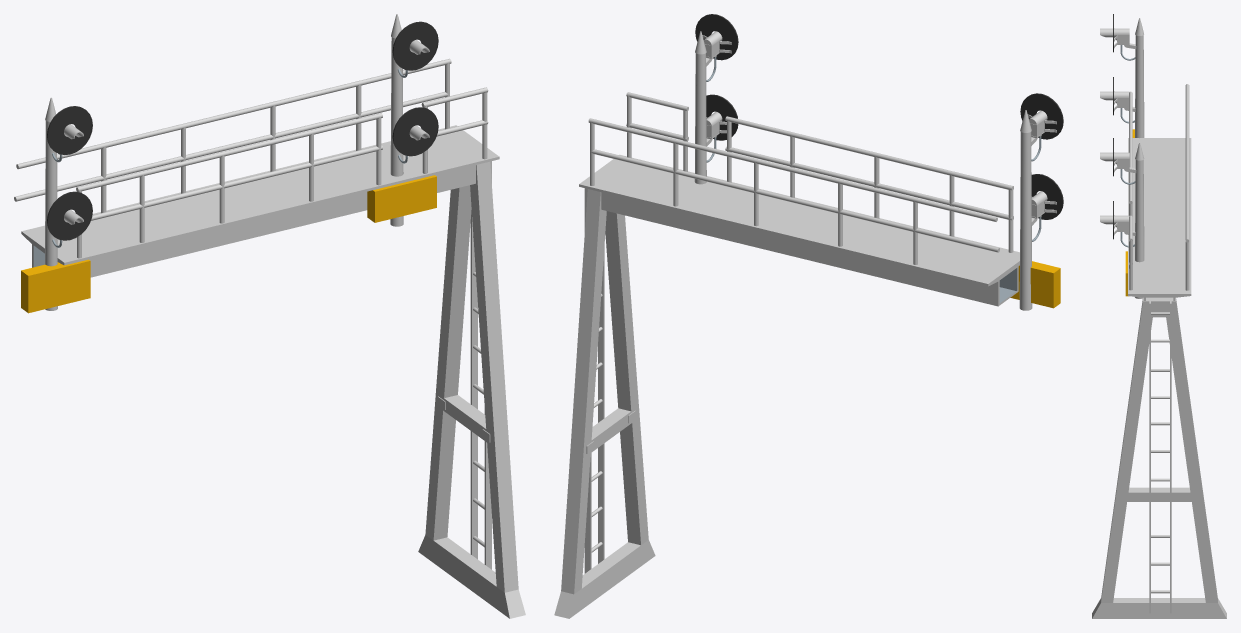
The picture shows the model from 3 angles, left to right: view 1: azimuth 30°, elevation 25°; view 2: azimuth 150°, elevation 25°; view 3: azimuth 270°, elevation 25°; orthographic projection. The views are drawn at different scales.
Parts seen in each view (by area): view 1: group_14, group_26, Box (×2), group_40, group_39, group_65, group_58, group_59, mesh_42_instance_1, mesh_42_instance_0, mesh_1_instance_1, mesh_1_instance_0 (+3 smaller); view 2: group_14, group_26, group_39, group_40, _instance_0, group_58, group_59, group_65, _instance_1, Box, mesh_1_instance_1, mesh_1_instance_0 (+2 smaller); view 3: group_26, group_14, _instance_1, _instance_0, group_39, group_70, group_65, group_58, mesh_5_instance_0, mesh_5_instance_1, mesh_46_instance_0, mesh_46_instance_1 (+1 smaller).
Part boxes in pixels (x1=…): group_14: x1=21, y1=125, x2=499, y2=277; group_26: x1=418, y1=161, x2=525, y2=618; Box (×2): x1=21, y1=175, x2=436, y2=313; group_40: x1=14, y1=92, x2=449, y2=201; group_39: x1=16, y1=58, x2=451, y2=169; group_65: x1=470, y1=389, x2=491, y2=569; group_58: x1=76, y1=113, x2=382, y2=191; group_59: x1=91, y1=145, x2=382, y2=220; mesh_42_instance_1: x1=394, y1=108, x2=437, y2=155; mesh_42_instance_0: x1=48, y1=193, x2=91, y2=239; mesh_1_instance_1: x1=394, y1=23, x2=437, y2=69; mesh_1_instance_0: x1=48, y1=107, x2=91, y2=154; group_14: x1=579, y1=154, x2=1019, y2=306; group_26: x1=554, y1=189, x2=655, y2=618; group_39: x1=588, y1=118, x2=997, y2=221; group_40: x1=591, y1=149, x2=999, y2=252; _instance_0: x1=1019, y1=132, x2=1032, y2=310; group_58: x1=725, y1=116, x2=1013, y2=190; group_59: x1=725, y1=146, x2=1013, y2=220; group_65: x1=584, y1=404, x2=604, y2=573; _instance_1: x1=694, y1=53, x2=706, y2=184; Box: x1=1010, y1=261, x2=1060, y2=308; mesh_1_instance_1: x1=696, y1=15, x2=736, y2=59; mesh_1_instance_0: x1=1021, y1=94, x2=1061, y2=138; group_26: x1=1092, y1=297, x2=1226, y2=618; group_14: x1=1128, y1=138, x2=1191, y2=300; _instance_1: x1=1135, y1=160, x2=1144, y2=298; _instance_0: x1=1135, y1=35, x2=1144, y2=138; group_39: x1=1185, y1=84, x2=1189, y2=242; group_70: x1=1149, y1=301, x2=1171, y2=484; group_65: x1=1149, y1=484, x2=1171, y2=613; group_58: x1=1129, y1=91, x2=1132, y2=204; mesh_5_instance_0: x1=1100, y1=28, x2=1129, y2=44; mesh_5_instance_1: x1=1100, y1=152, x2=1129, y2=168; mesh_46_instance_0: x1=1100, y1=91, x2=1129, y2=107; mesh_46_instance_1: x1=1100, y1=215, x2=1129, y2=231.
Bounding box in the file's own units: 7.68 × 9.31 × 2.56.
